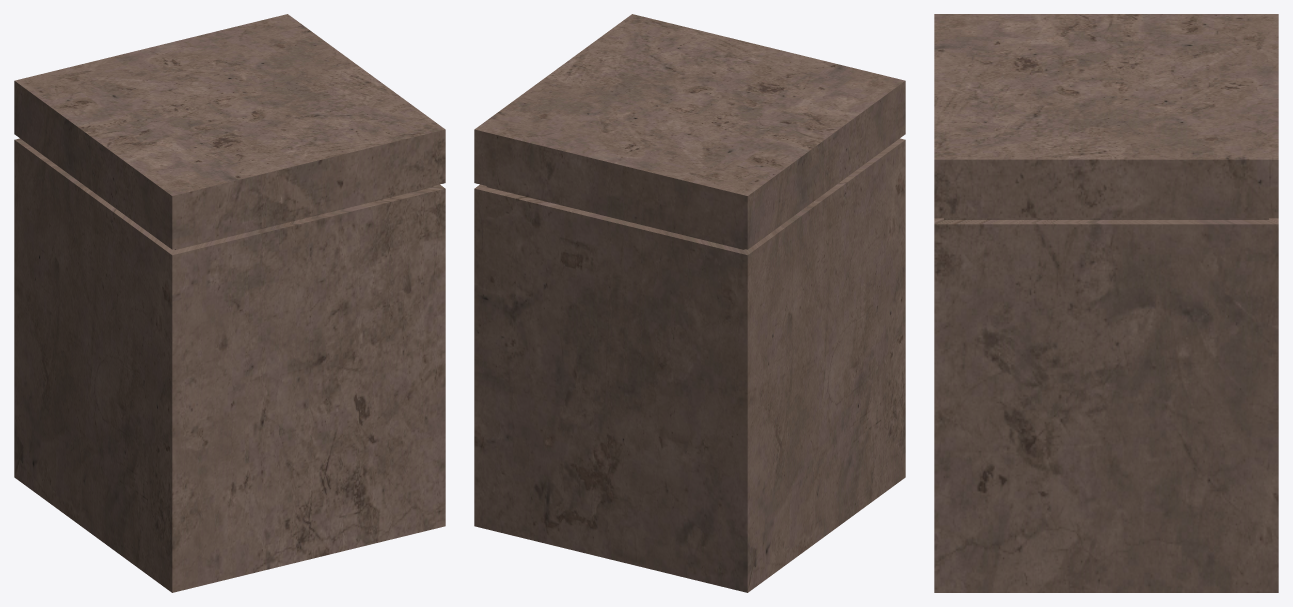
File: Object_Pedestal_TanModern2.glb
The picture shows the model from 3 angles, left to right: view 1: azimuth 30°, elevation 25°; view 2: azimuth 150°, elevation 25°; view 3: azimuth 270°, elevation 25°; orthographic projection. The views are drawn at different scales.
Visible parts, largest first — view 1: Cube.004; view 2: Cube.004; view 3: Cube.004.
Boxes of the visible parts, x1=… form: Cube.004: x1=14, y1=14, x2=445, y2=592; Cube.004: x1=474, y1=14, x2=905, y2=592; Cube.004: x1=934, y1=14, x2=1278, y2=592.
Size of the model in its own units: 2 by 2.78 by 2.
1 material, 1 textured.
